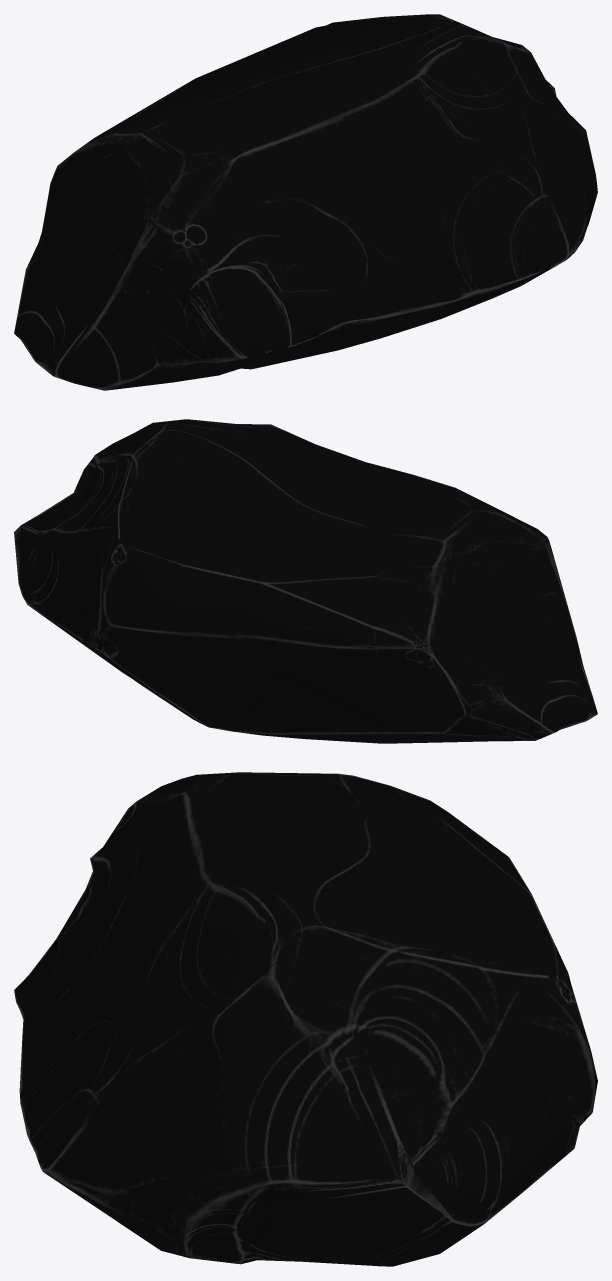
File: obsidian.glb
3 renders of one model, top to bottom at view 1: azimuth 30°, elevation 25°; view 2: azimuth 150°, elevation 25°; view 3: azimuth 270°, elevation 25°, orthographic. The views are drawn at different scales.
Visible parts, largest first — view 1: Object_2; view 2: Object_2; view 3: Object_2.
Part boxes in pixels (x1=…): Object_2: x1=14, y1=14, x2=597, y2=390; Object_2: x1=14, y1=419, x2=597, y2=743; Object_2: x1=14, y1=772, x2=597, y2=1266.
Size of the model in its own units: 1.97 by 0.8592 by 1.25.
Materials: 1 (1 with a texture image).
